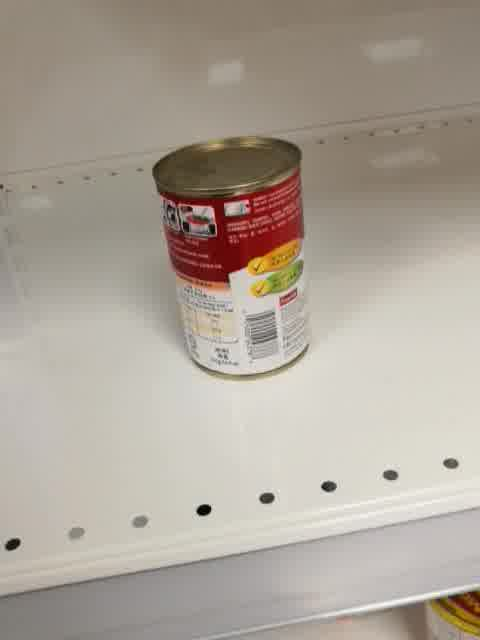tomatosoup: (151, 134, 313, 381)
